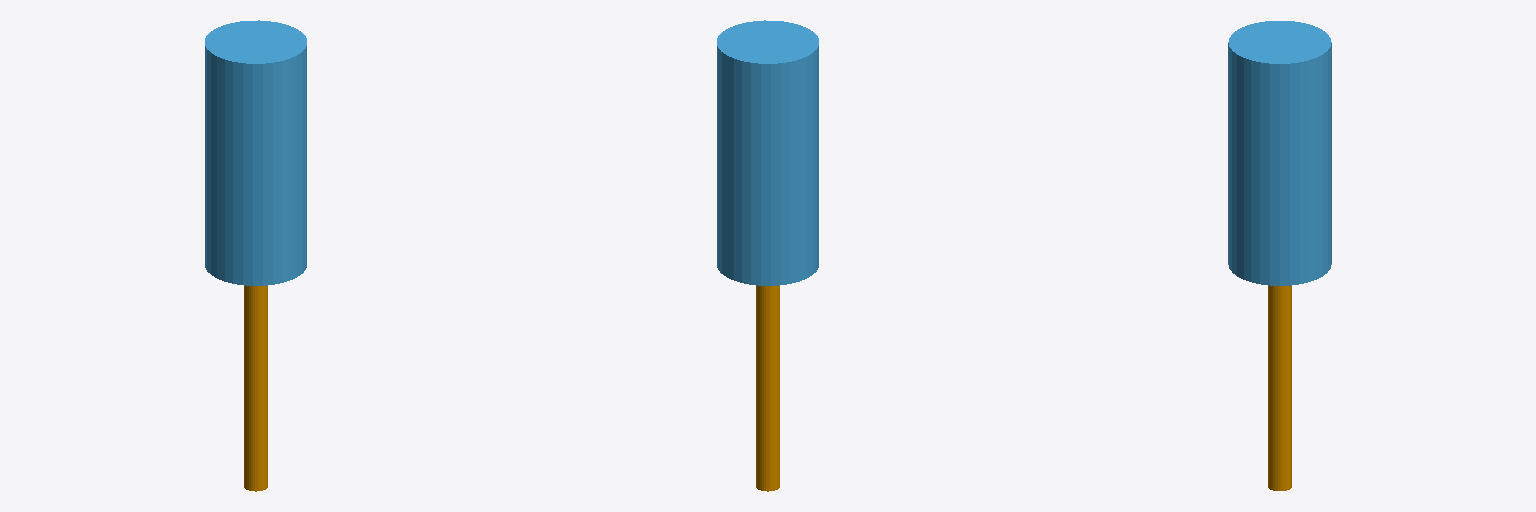
URDF robot description (screwdriver_on_the_table):
<?xml version="1.0" ?>
<!-- this is the one without any virtual joints and links -->
<robot name="screwdriver_on_the_table">
<link name="screwdriver_stick">
    <inertial>
      <mass value="0.05"/>
      <!-- <friction value="1.0"/> -->
      <inertia ixx="0.000041979" ixy="0.0" ixz="0.0" iyy="0.000041979" iyz="0.0" izz="0.000000625"/>
    </inertial>
    <visual>
        <origin rpy="0 0 0" xyz="0 0 0.05"/>
        <geometry>
            <cylinder radius="0.005" length="0.1"/>
        </geometry>
        <!-- <material name="White">
	 	    <color rgba="0.9 0.9 0.9 0.5"/>
        </material> -->
    </visual>
    <collision>
        <origin rpy="0 0 0" xyz="0 0 0.05"/>
        <geometry>
            <cylinder radius="0.005" length="0.1"/>
        </geometry>
    </collision>
</link>

<gazebo reference="screwdriver_body">
    <mu1>0.630035</mu1>
    <mu2>0.567853</mu2>
    <!-- Isaac Sim maps mu1/mu2 to PhysX static/dynamic friction during URDF→USD import -->
</gazebo>

<joint name="screwdriver_stick_body_joint" type="fixed">
    <parent link="screwdriver_stick"/>
    <child link="screwdriver_body"/>
    <origin rpy="0 0 0" xyz="0 0 0.1"/> 
    <axis xyz="0 0 1"/>
</joint>

<link name="screwdriver_body">
    <inertial>
      <mass value="0.053752"/>
      <inertia ixx="0.000050746" ixy="0.0" ixz="0.0" iyy="0.000050746" iyz="0.0" izz="0.000011905"/>
    </inertial>
    <visual>
        <origin rpy="0 0 0" xyz="0 0 0.05"/>
        <geometry>
            <cylinder radius="0.021047" length="0.1"/>
        </geometry>
        <!-- <material name="Red1">
	 	    <color rgba="0.9 0. 0. 0.5"/>
        </material> -->
    </visual>
    <collision>
        <origin rpy="0 0 0" xyz="0 0 0.05"/>
        <geometry>
            <cylinder radius="0.021047" length="0.1"/>
        </geometry>
    </collision>
</link>

<!-- <joint name="screwdriver_body_cap_joint" type="revolute">
    <parent link="screwdriver_body"/>
    <child link="screwdriver_cap"/>
    <origin rpy="0 0 0" xyz="0 0 0.1"/> 
    <axis xyz="0 0 1"/>
</joint>

<link name="screwdriver_cap">
    <inertial>
      <mass value="0.005"/>
      <inertia ixx="0.00001" ixy="0.0" ixz="0.0" iyy="0.000005" iyz="0.0" izz="0.000005"/>
    </inertial>
    <visual>
        <origin rpy="0 0 0" xyz="0 0 0.0006"/>
        <geometry>
            <cylinder radius="0.02" length="0.001"/>
        </geometry>
        <material name="Yellow">
	 	    <color rgba="0.9 0.9 0. 1.0"/>
        </material>
    </visual>
    <collision>
        <origin rpy="0 0 0" xyz="0 0 0.0005"/>
        <geometry>
            <cylinder radius="0.02" length="0.001"/>
        </geometry>
    </collision>
</link> -->

</robot>

--- Facts derived from the render (not from the file) ---
3 views of the same robot in one strip: view 1: azimuth 30°, elevation 25°; view 2: azimuth 150°, elevation 25°; view 3: azimuth 270°, elevation 25° (orthographic).
Robot: screwdriver_on_the_table — 2 links, 1 joints (1 fixed); root link screwdriver_stick; default pose: every joint at zero.
Links seen in each view (by area): view 1: screwdriver_body, screwdriver_stick; view 2: screwdriver_body, screwdriver_stick; view 3: screwdriver_body, screwdriver_stick.
Link boxes in pixels (left/top/right/bottom): screwdriver_body: left=205, top=20, right=306, bottom=285; screwdriver_stick: left=244, top=285, right=267, bottom=491; screwdriver_body: left=717, top=20, right=818, bottom=285; screwdriver_stick: left=756, top=285, right=779, bottom=491; screwdriver_body: left=1228, top=21, right=1331, bottom=285; screwdriver_stick: left=1268, top=285, right=1291, bottom=490.
Size in the robot's own frame: 0.0421 by 0.0421 by 0.2 metres.
Geometry: primitives only (box / cylinder / sphere), no mesh files.
